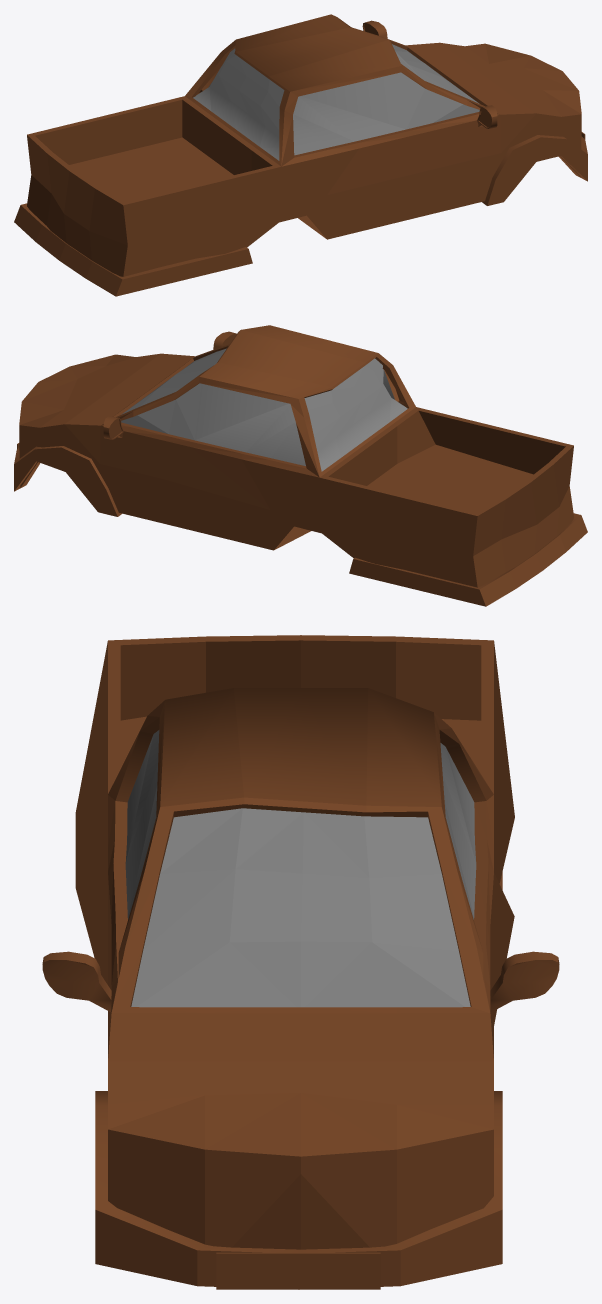
The model's file is SM_car_destroyed_02.fbx.
The picture shows the model from 3 angles, top to bottom: view 1: azimuth 30°, elevation 25°; view 2: azimuth 150°, elevation 25°; view 3: azimuth 270°, elevation 25°; orthographic projection. The views are drawn at different scales.
Parts seen in each view (by area): view 1: Object114; view 2: Object114; view 3: Object114.
Boxes of the visible parts, x1=… form: Object114: x1=14, y1=14, x2=587, y2=296; Object114: x1=14, y1=325, x2=587, y2=606; Object114: x1=42, y1=635, x2=559, y2=1289.
Size of the model in its own units: 183 by 54.3 by 81.02.
